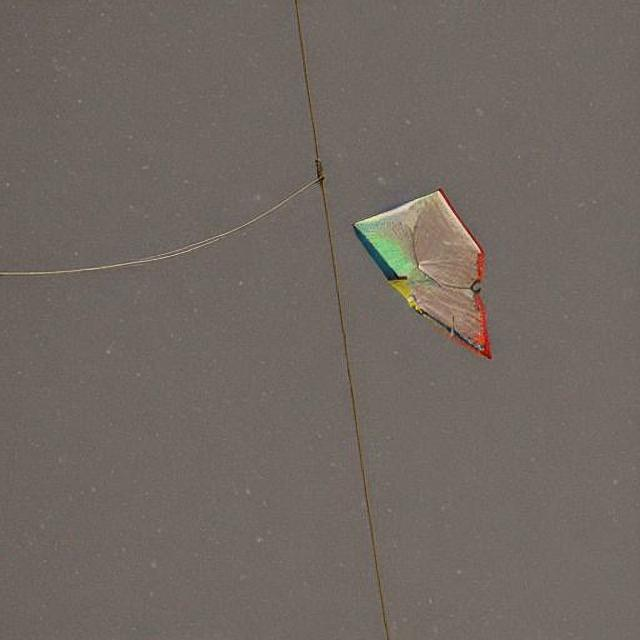floating object: (352, 188, 492, 356)
